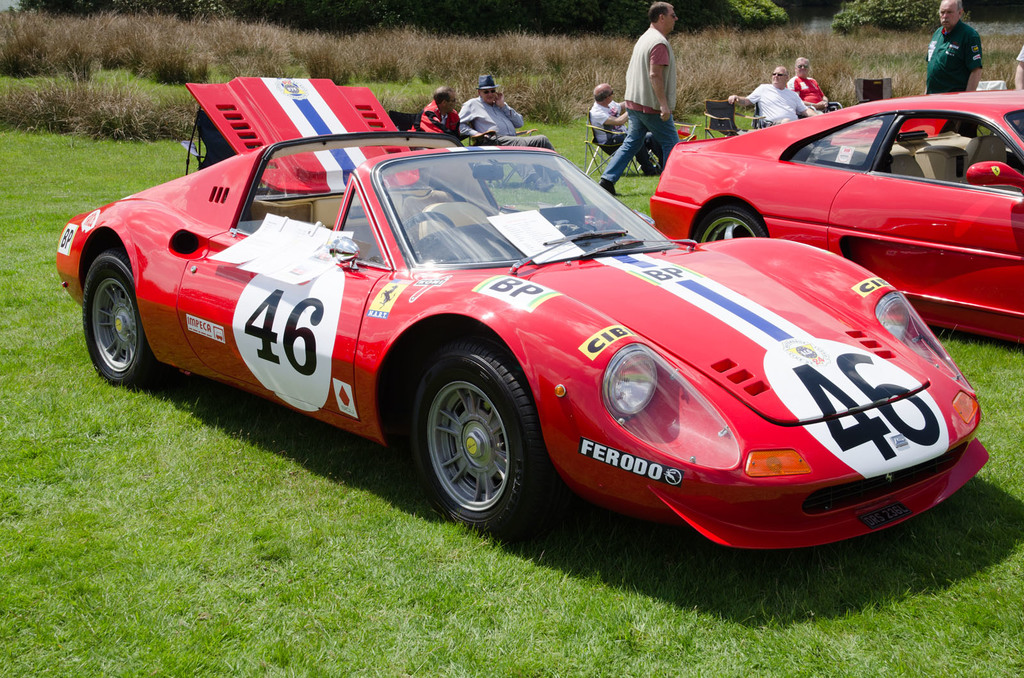Car: (56, 77, 989, 549), (648, 89, 1024, 344)
